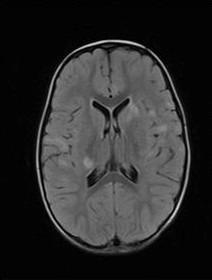Normal_Brain: (3, 4, 212, 280)
